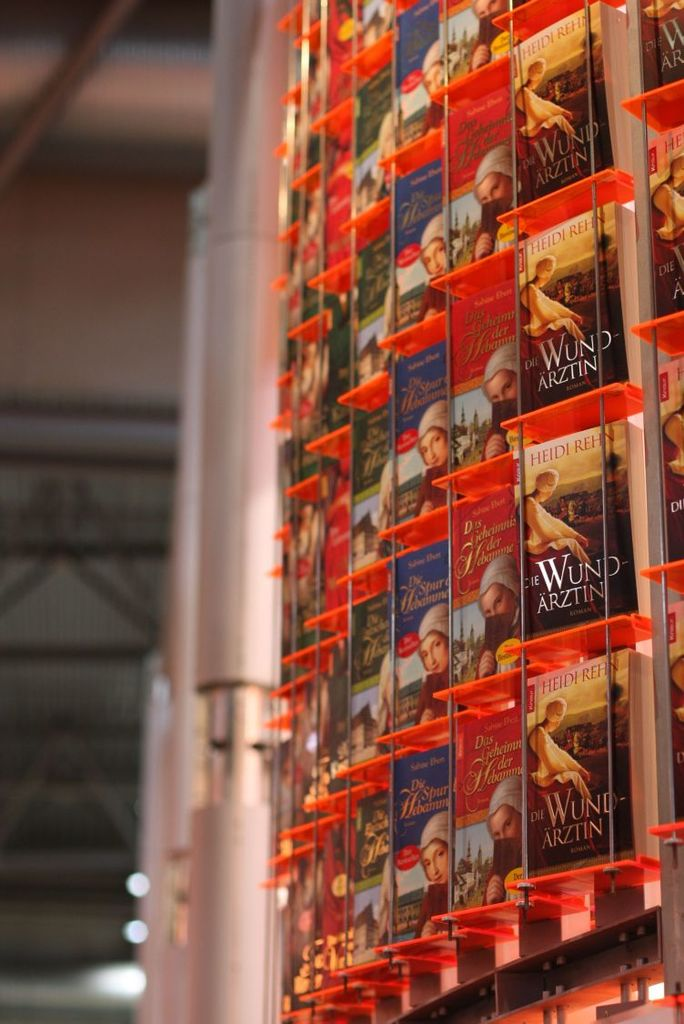Book: (161, 5, 684, 983)
